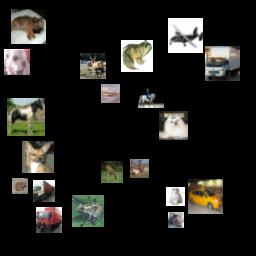airplane: (168, 18, 203, 53), (101, 84, 120, 103)
automobile: (188, 179, 223, 214)
cat: (166, 187, 185, 206)
deer: (80, 53, 106, 79), (101, 161, 123, 183), (130, 159, 149, 178)
dog: (11, 9, 46, 44), (22, 141, 54, 173), (159, 111, 188, 140), (4, 49, 30, 75)
frog: (121, 40, 153, 72), (72, 195, 104, 227), (12, 178, 28, 194)
truck: (205, 46, 240, 81), (36, 207, 62, 233), (33, 180, 55, 202), (168, 212, 184, 228)
